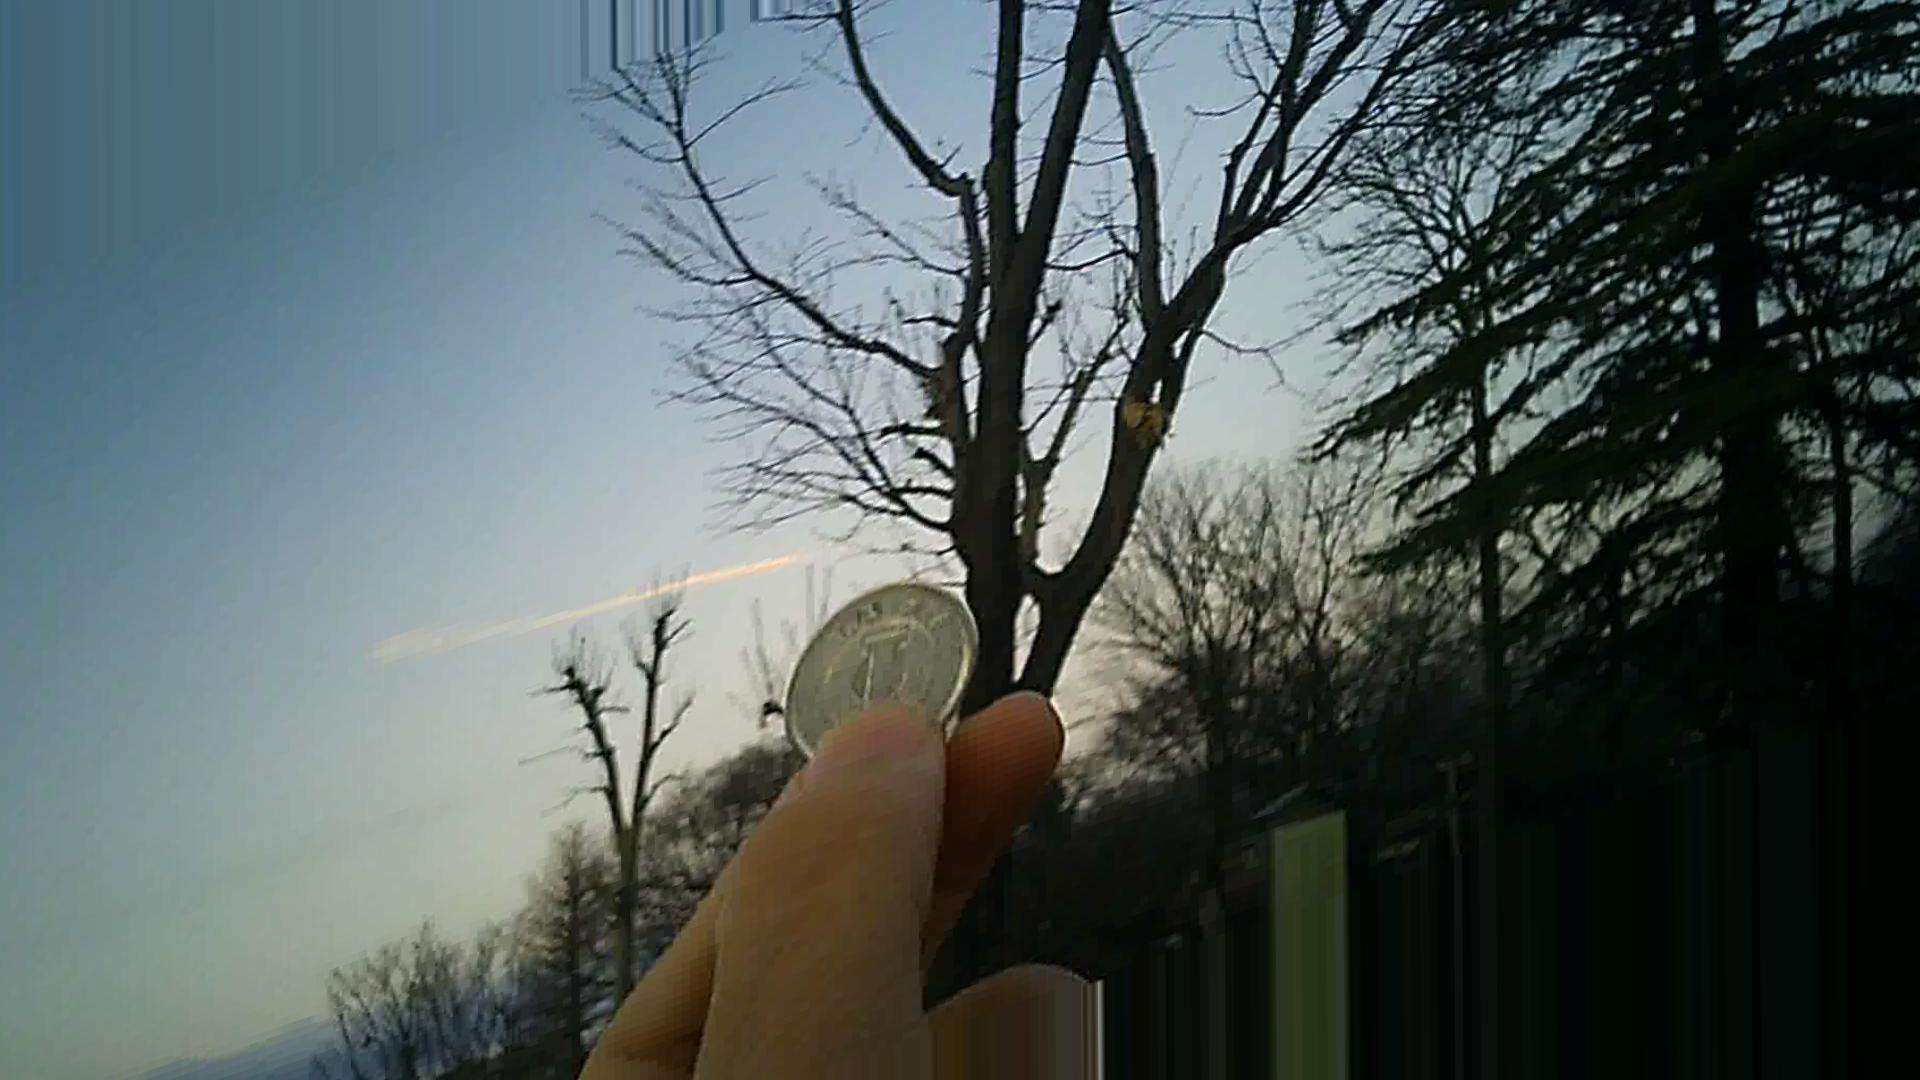1 Yen: (762, 570, 986, 752)
